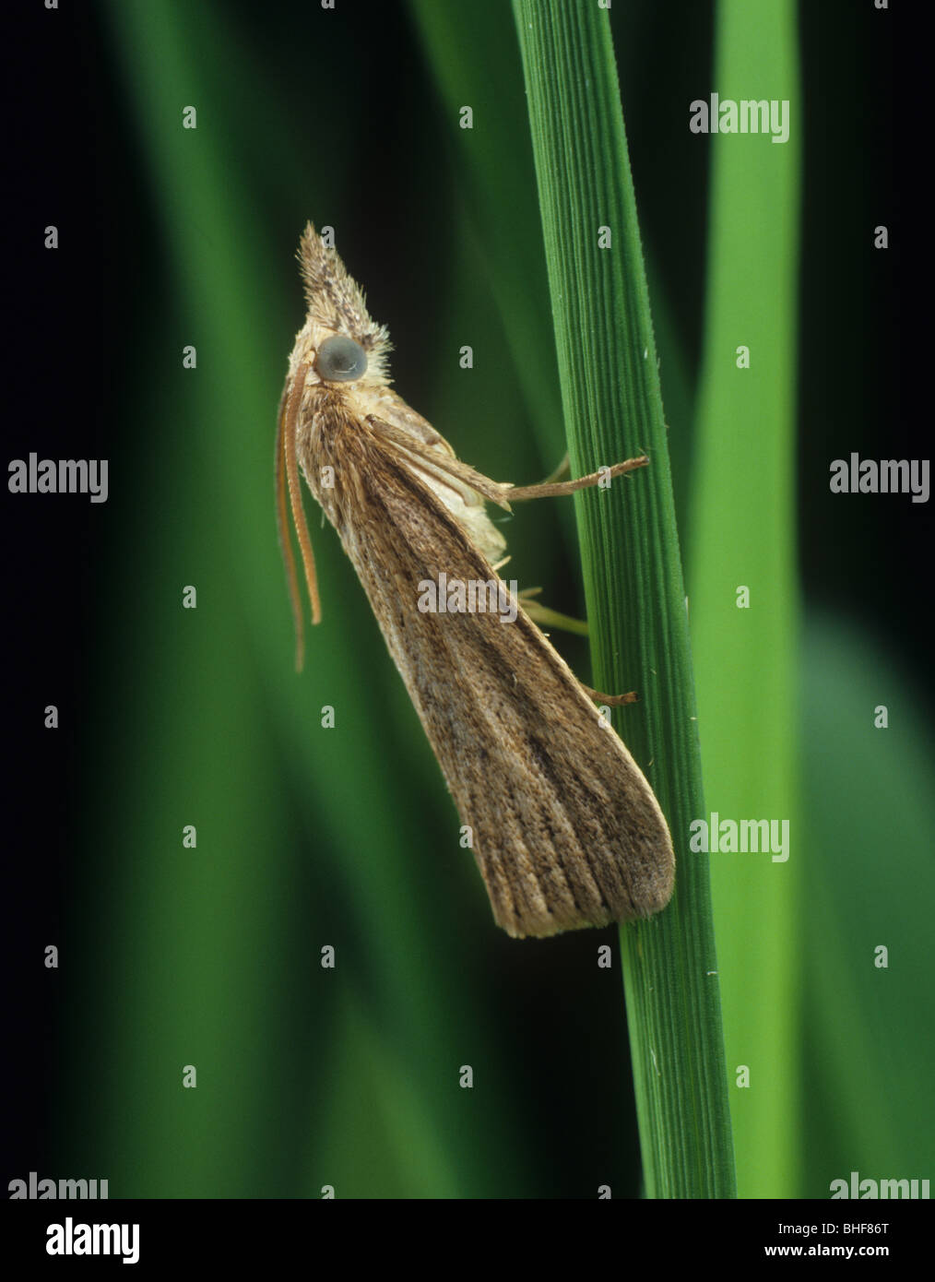Crambidae: (275, 216, 693, 955)
